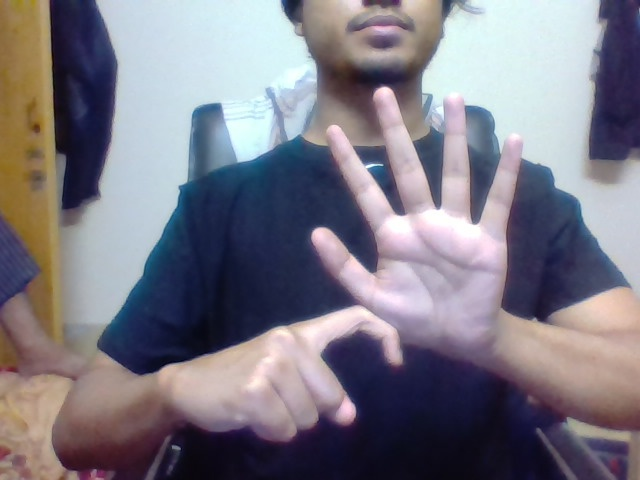R: (287, 299, 405, 425)
